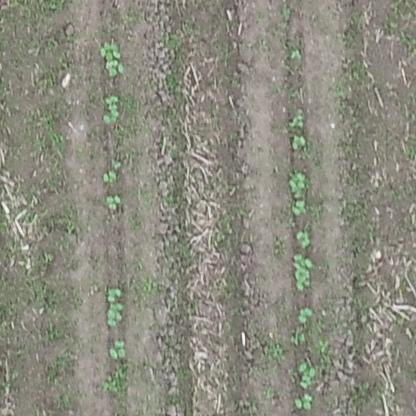vc: (100, 39, 128, 77), (291, 253, 316, 290), (101, 92, 124, 124), (295, 359, 318, 389), (288, 168, 310, 192), (291, 391, 317, 410), (103, 305, 124, 327), (295, 228, 314, 249), (107, 338, 126, 358), (290, 133, 311, 151), (298, 303, 316, 324), (105, 190, 123, 210), (106, 284, 126, 302), (289, 199, 308, 217), (288, 113, 308, 130), (101, 168, 119, 184), (287, 46, 303, 60)
